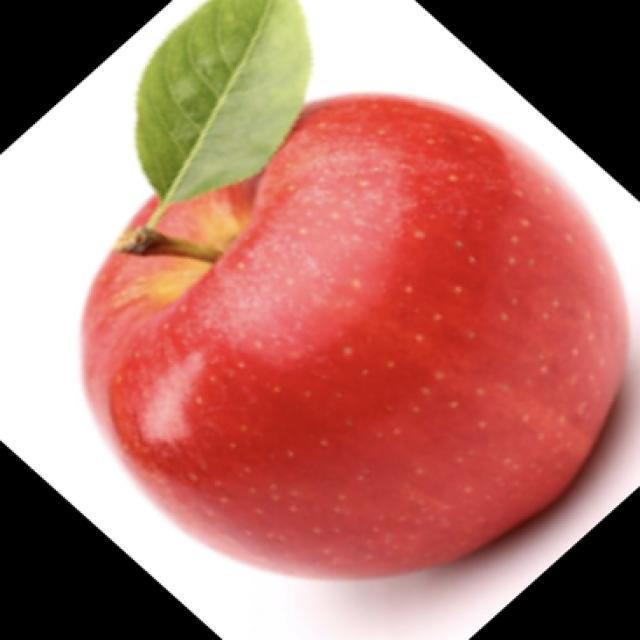Fresh Apple: (93, 106, 640, 579)
